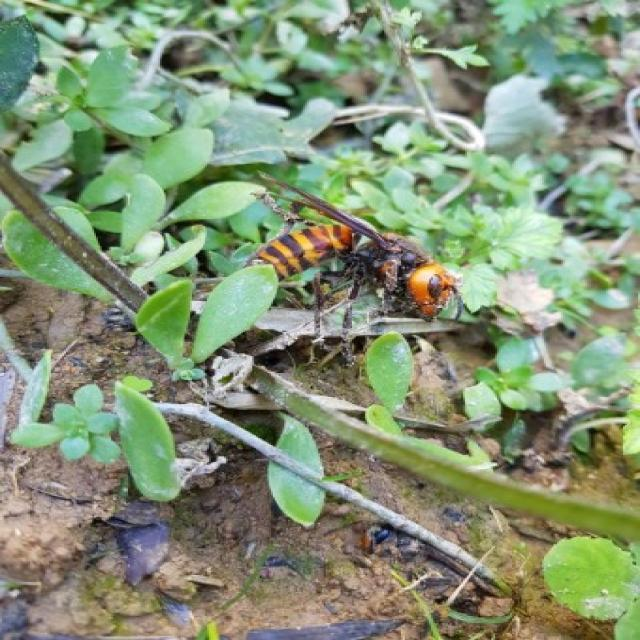Wasp: (234, 168, 463, 372)
